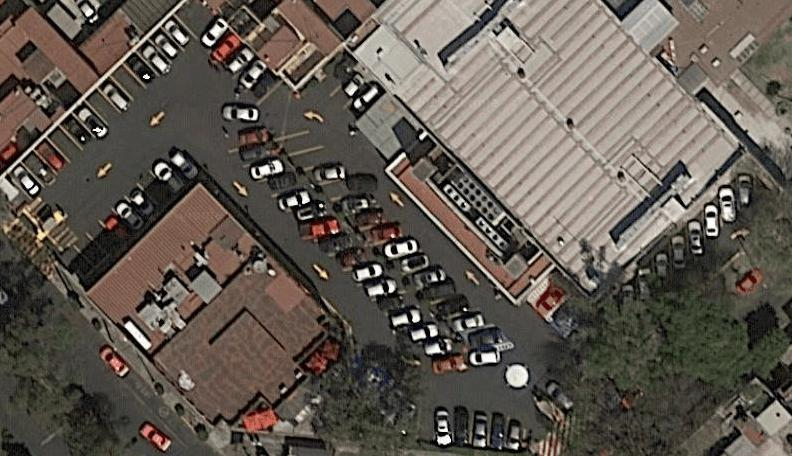parkingspot: (223, 125, 471, 377), (269, 128, 516, 366), (6, 11, 202, 205), (59, 142, 204, 284), (621, 173, 757, 311), (195, 17, 285, 110), (310, 52, 388, 127), (415, 405, 530, 453)
